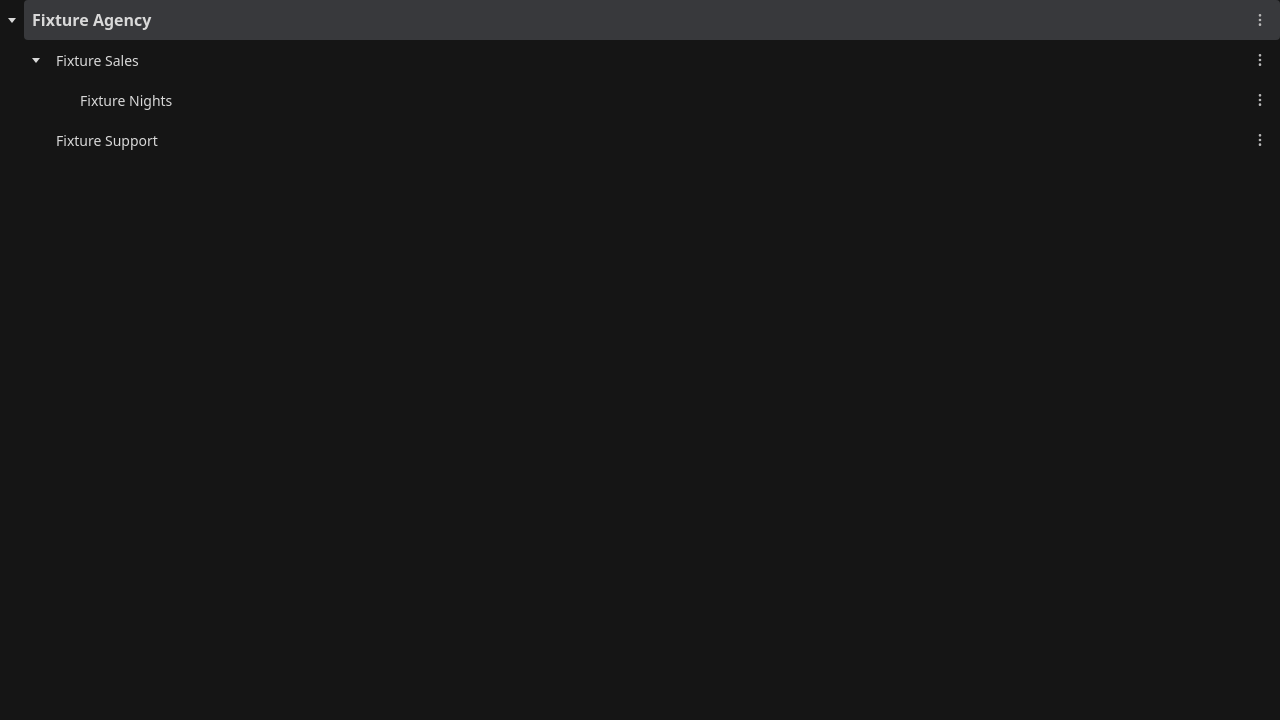
Test: GroupTree › keeps the dialog open with the Relay's refusal when a sibling has the name
Click the button named "Actions for Fixture Agency" at (1260, 20), box [1248,8,1272,32]
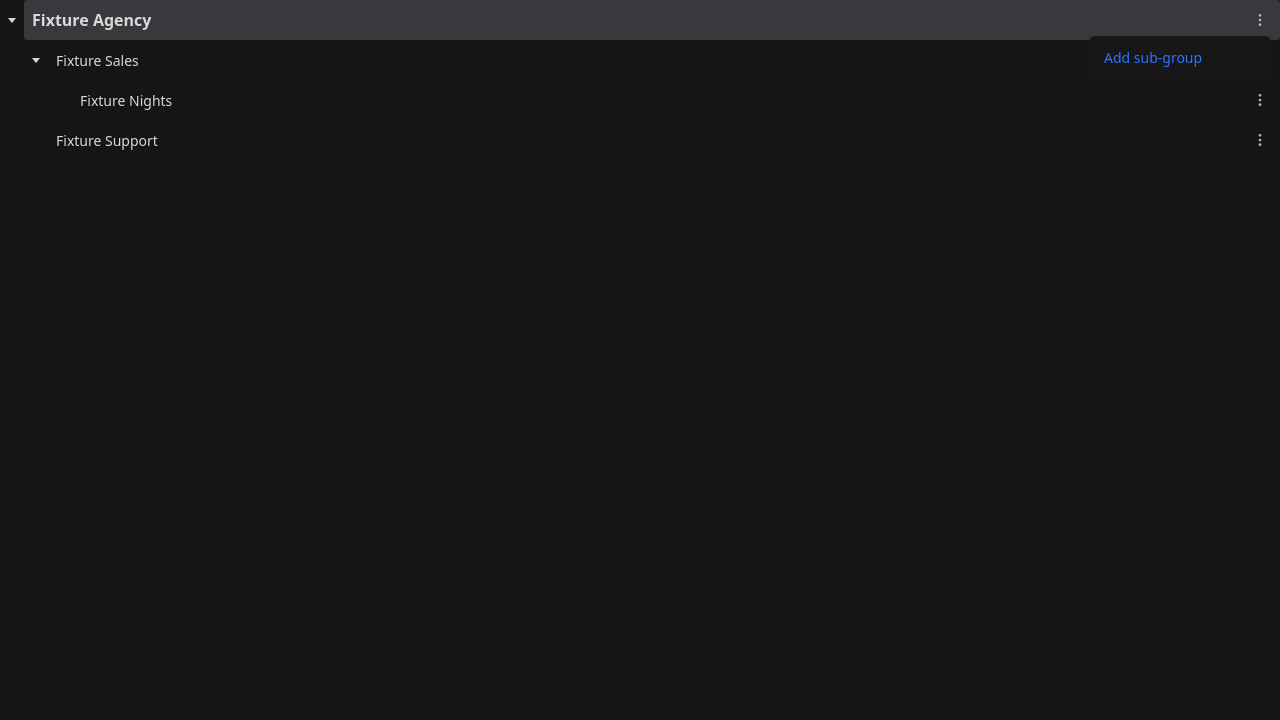
Click the menu item "Add sub-group" at (1180, 58), box [1092,40,1268,76]
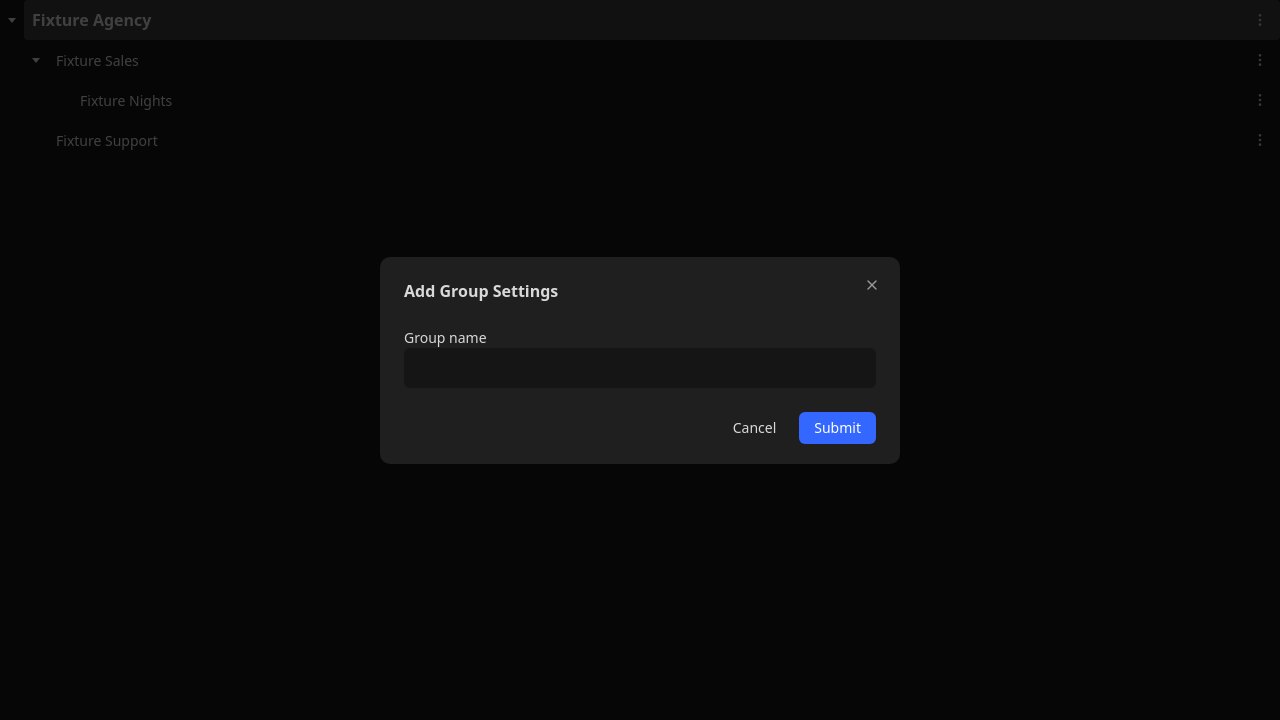
Type "Fixture Sales" into the field labelled "Group name" at (640, 368), box [404,348,876,388]
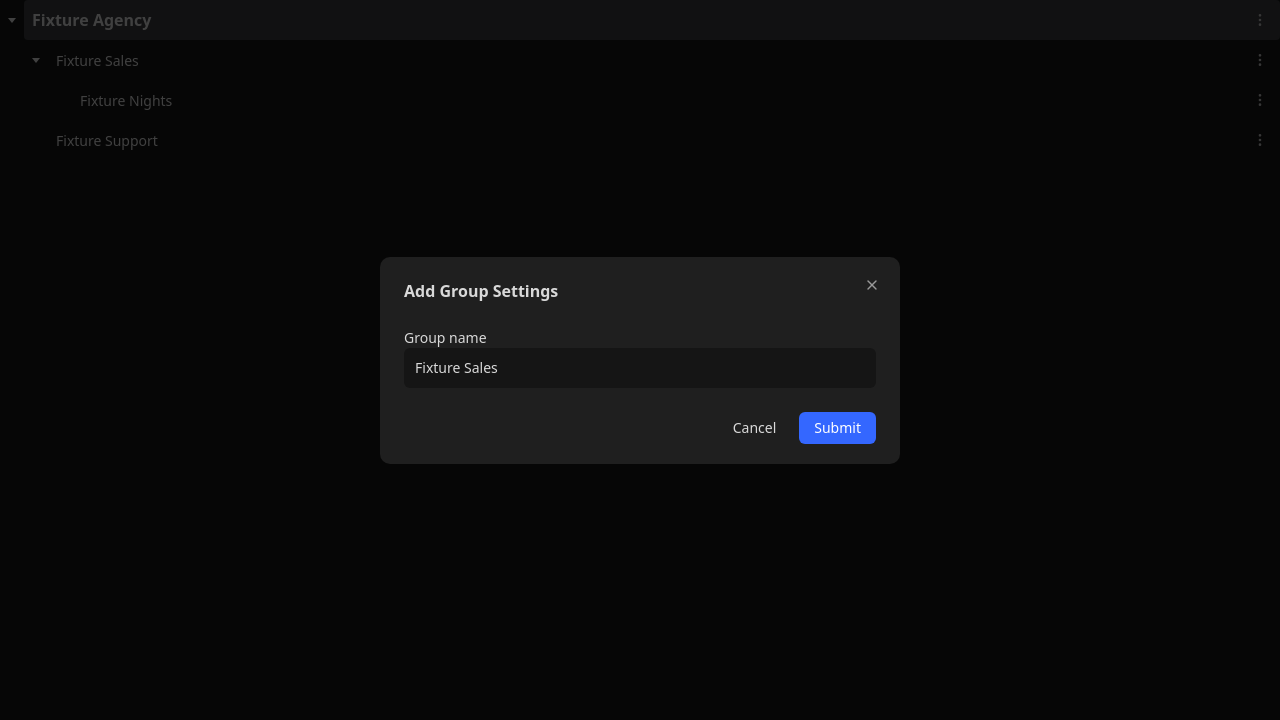
Click the button "Submit" at (838, 428), box [799,412,876,444]
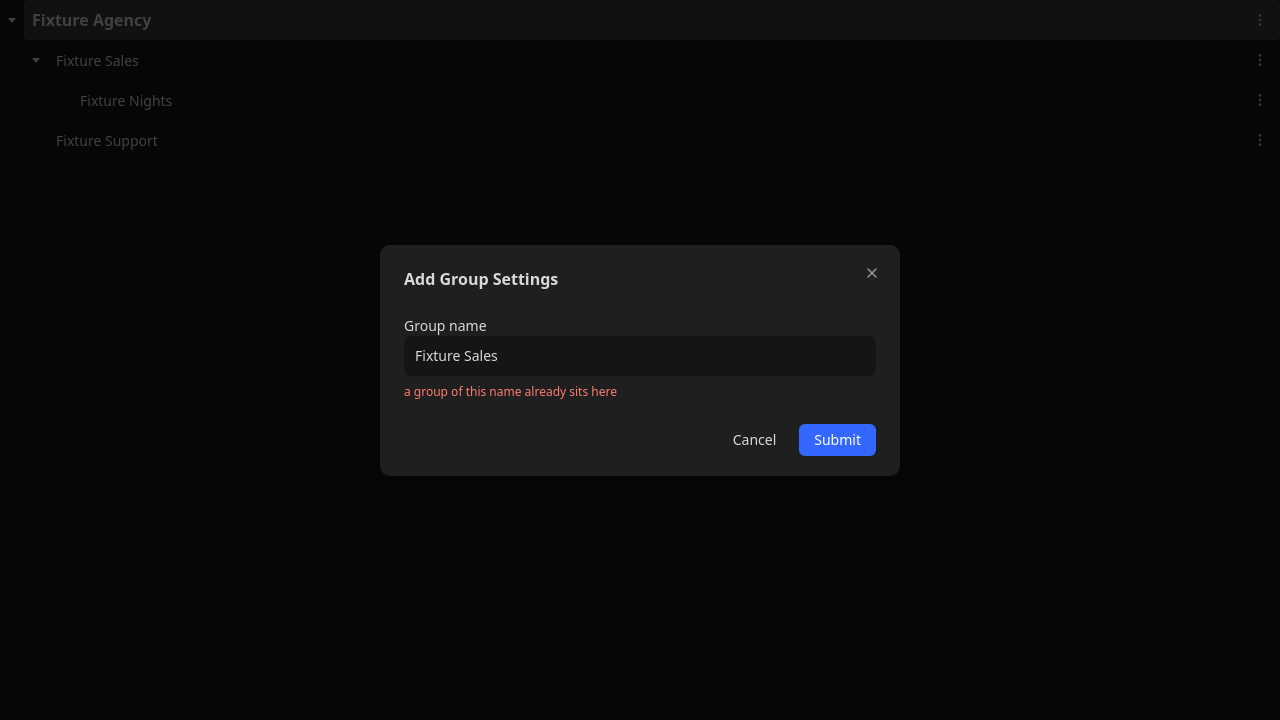
Now the dialog "Add Group Settings" is shown, box [380,244,900,476]
Now the message reads "a group of this name already sits here", box [404,382,617,400]
